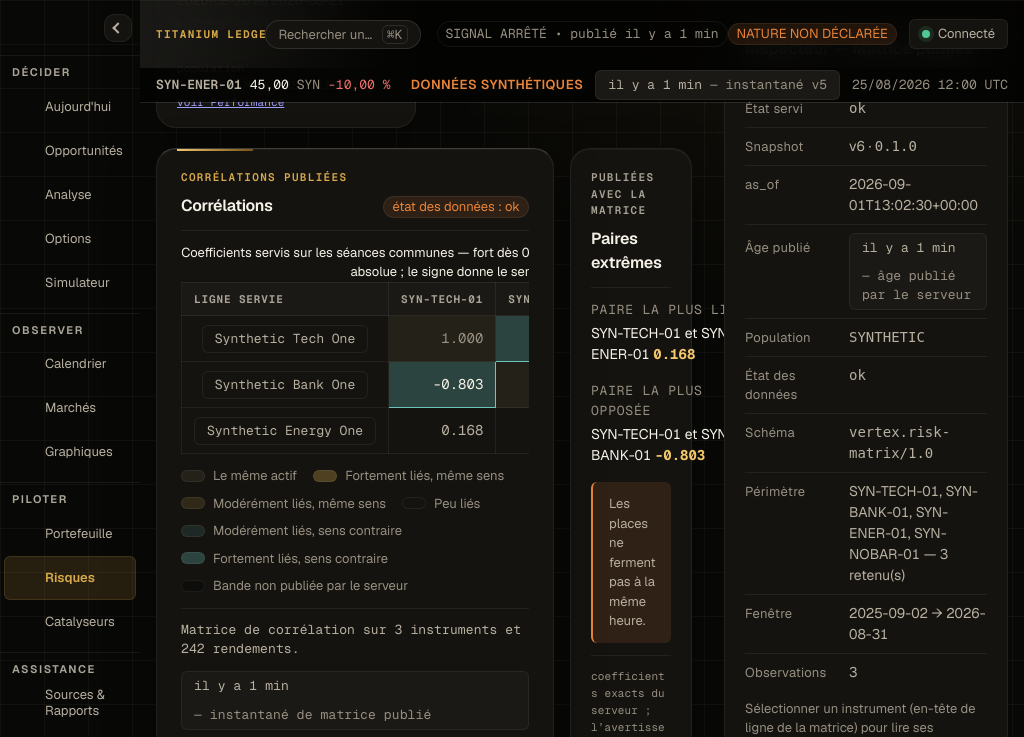
it: Page Risques — composition (LOT-A6) › l’inspecteur porte la matrice publiée ; un en-tête de ligne ouvre l’instrument ; « Fermer » y revient
This screenshot has width=1024, height=737.
(page scrolled)
Expected: the element with test id "risk-matrix-facts" is shown, [745, 90, 987, 690]
Expected: the heading "Inspecteur — Matrice publiée" is shown, [745, 37, 987, 74]
Click the button with aria-label "Inspecter SYN-BANK-01 (Synthetic Bank One)": (285, 385) [202, 371, 368, 399]
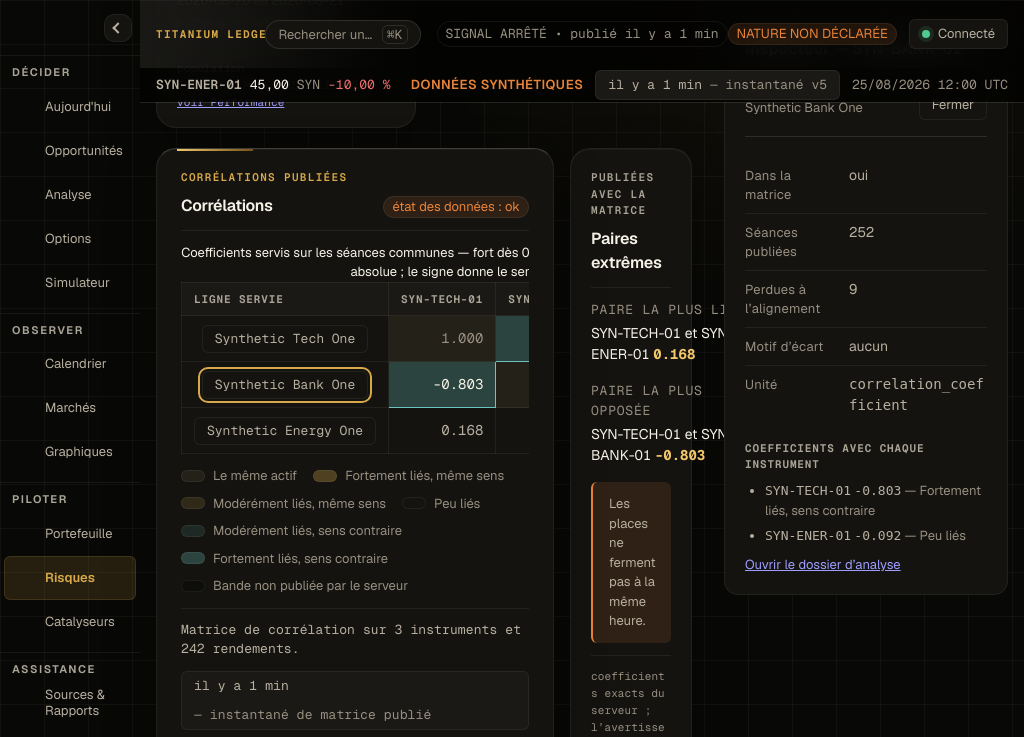
Now the element with test id "risk-instrument-facts" shows "252", box [849, 222, 874, 240]
Now the list with test id "risk-instrument-coefficients" shows "-0.803", box [854, 482, 901, 498]
Now the list with test id "risk-instrument-coefficients" shows "Fortement liés, sens contraire", box [765, 482, 981, 519]
Click the button "Fermer": (953, 105) [919, 90, 987, 120]
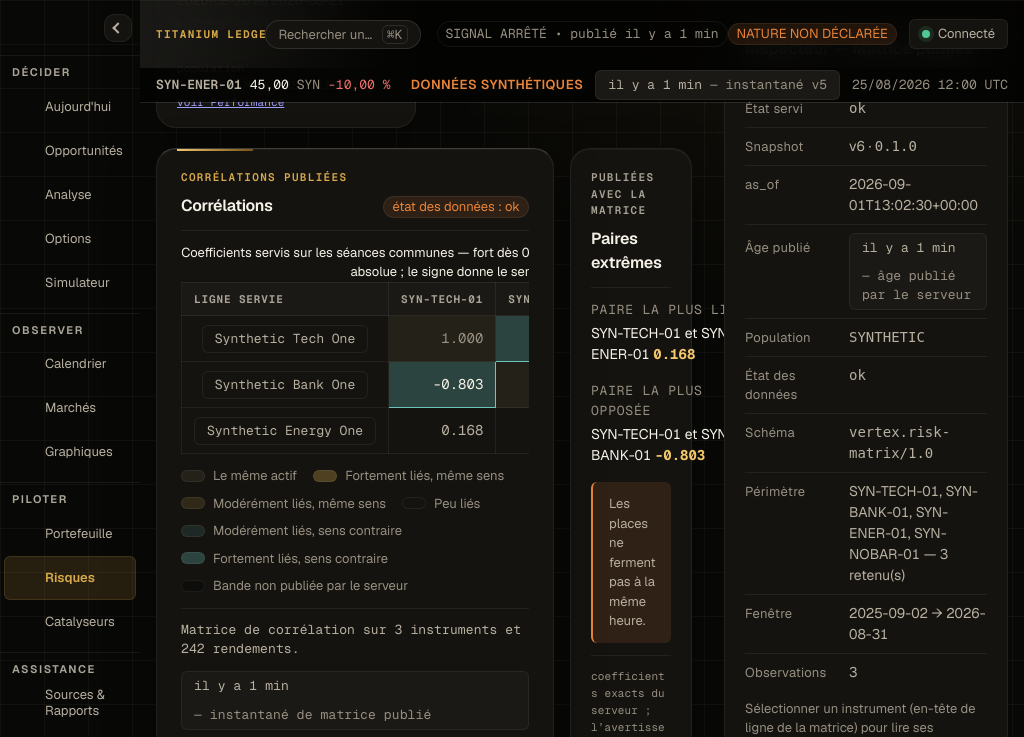
Now the element with test id "risk-instrument-facts" is gone
Now the element with test id "risk-matrix-facts" is shown, box [745, 90, 987, 690]
